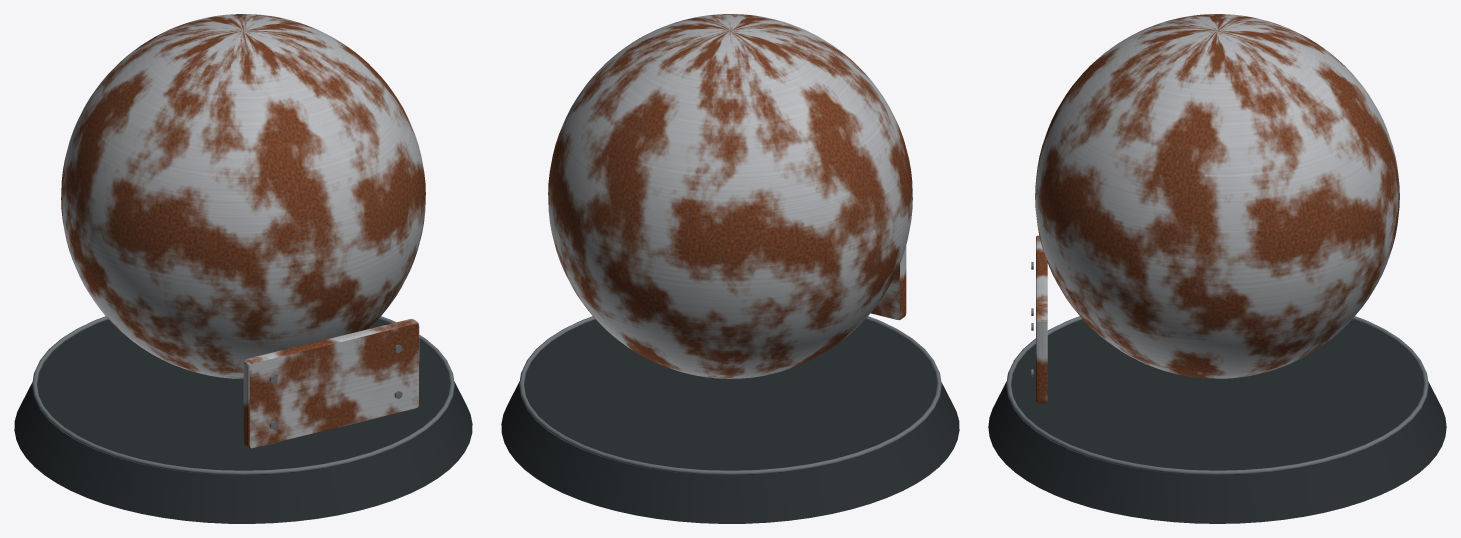
3 renders of one model, left to right at view 1: azimuth 30°, elevation 25°; view 2: azimuth 150°, elevation 25°; view 3: azimuth 270°, elevation 25°, orthographic.
Visible parts, largest first — view 1: surface specimen, neutral specimen stand, specimen edge; view 2: surface specimen, neutral specimen stand, specimen edge; view 3: surface specimen, neutral specimen stand, specimen edge.
Part boxes in pixels (box(x1,y1,x2,y2)): surface specimen: box(61, 14, 425, 448); neutral specimen stand: box(14, 319, 472, 523); specimen edge: box(32, 316, 454, 475); surface specimen: box(548, 14, 912, 378); neutral specimen stand: box(501, 319, 959, 523); specimen edge: box(519, 316, 941, 475); surface specimen: box(1035, 14, 1399, 403); neutral specimen stand: box(988, 319, 1446, 523); specimen edge: box(1006, 262, 1428, 475).
Bounding box in the file's own units: 0.54 × 0.515 × 0.54.
Materials: 3 (1 with a texture image).
